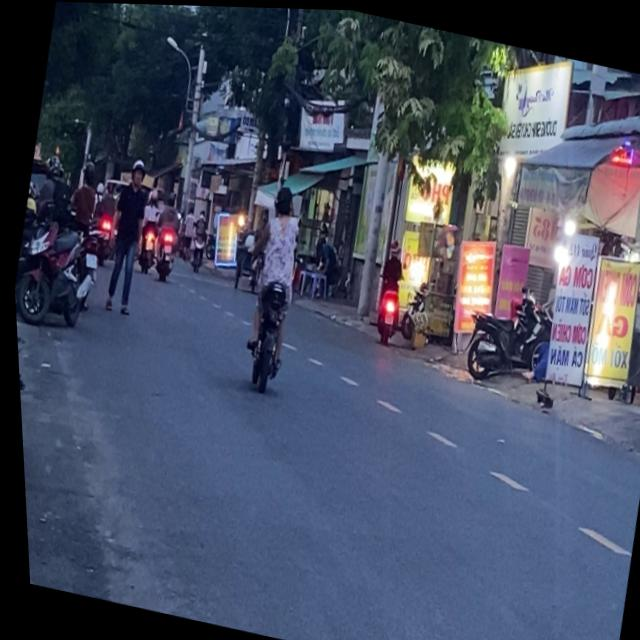licenseplate: (225, 175, 319, 395)
motorcyclist: (270, 182, 298, 218)
